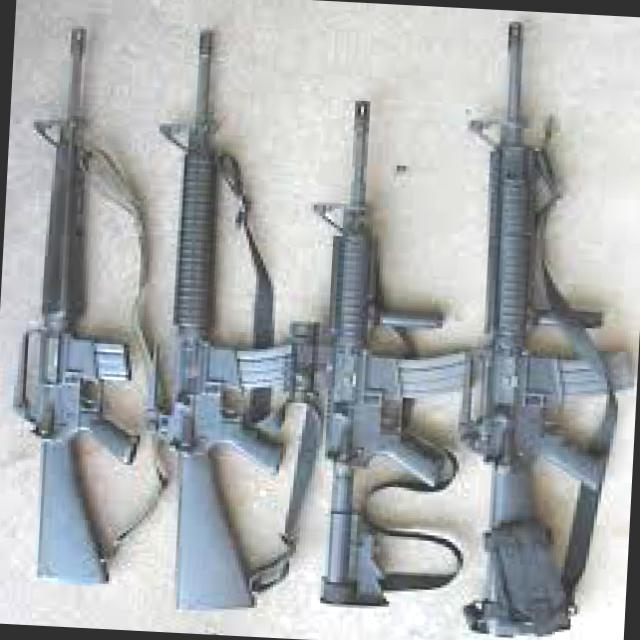long weapon: (390, 17, 621, 639), (114, 38, 304, 631), (274, 78, 454, 625), (0, 58, 156, 588)
